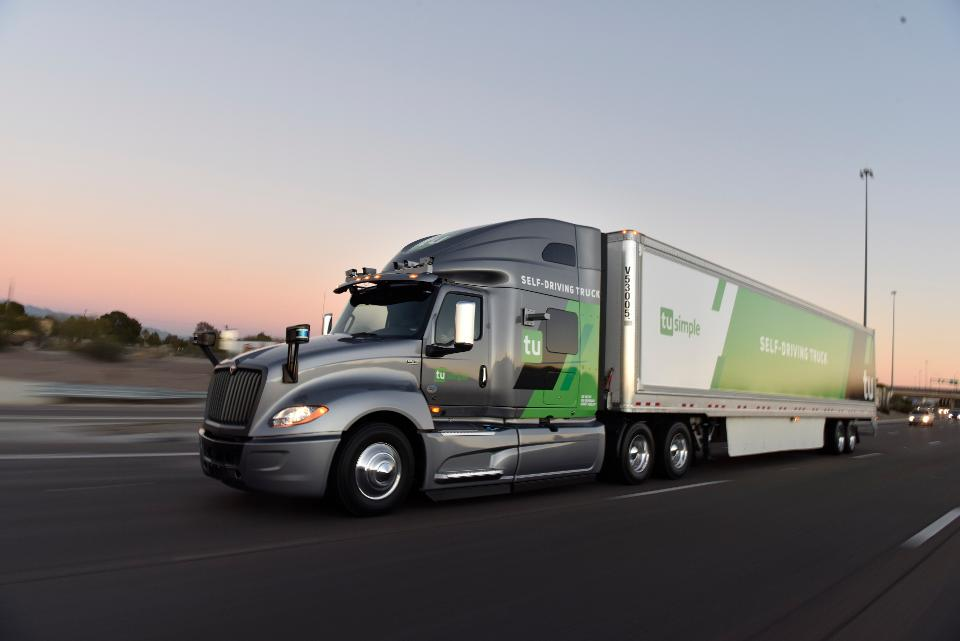Truck: (190, 212, 605, 521)
